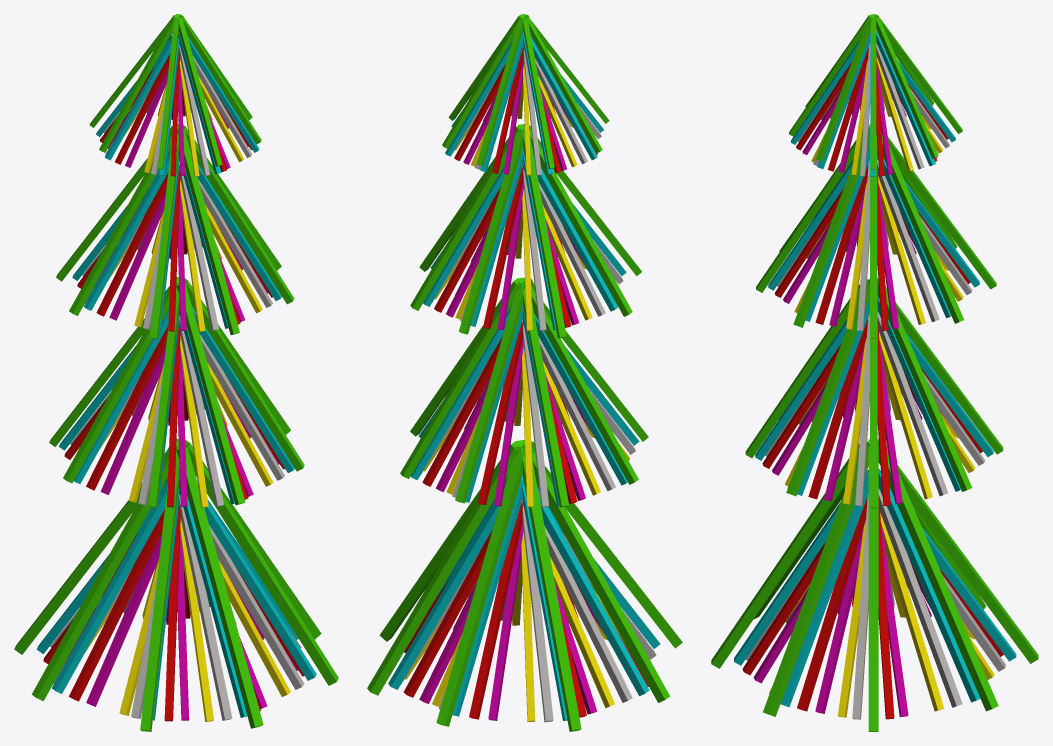
Rendered from jokastree.gltf.
3 renders of one model, left to right at view 1: azimuth 30°, elevation 25°; view 2: azimuth 150°, elevation 25°; view 3: azimuth 270°, elevation 25°, orthographic.
Parts seen in each view (by area): view 1: 4.001, 5.001, 4, 2.001, 6.001, 4.002, 5, 3.001, 2, Cube.001, Cube.008, 6 (+31 smaller); view 2: 4.001, 4, 2.001, 4.002, 5.001, 6.001, 3.001, Cube, 5, 2, Cube.008, Cube.025 (+32 smaller); view 3: 4.001, 2.001, 5.001, 4, 2, 5, 3.001, 6.001, 4.002, Cube.025, Cube.017, 2.002 (+30 smaller).
Boxes of the visible parts, left/top/right/bottom form: 4.001: left=36, top=479, right=316, bottom=720; 5.001: left=50, top=494, right=304, bottom=720; 4: left=59, top=304, right=294, bottom=506; 2.001: left=43, top=504, right=304, bottom=721; 6.001: left=84, top=519, right=290, bottom=721; 4.002: left=72, top=149, right=281, bottom=330; 5: left=70, top=315, right=284, bottom=506; 3.001: left=64, top=534, right=297, bottom=720; 2: left=64, top=324, right=284, bottom=507; Cube.001: left=176, top=447, right=263, bottom=728; Cube.008: left=31, top=447, right=176, bottom=700; 6: left=99, top=336, right=273, bottom=507; 4.001: left=388, top=475, right=660, bottom=720; 4: left=410, top=305, right=639, bottom=506; 2.001: left=403, top=501, right=648, bottom=719; 4.002: left=423, top=147, right=626, bottom=330; 5.001: left=401, top=499, right=656, bottom=722; 6.001: left=405, top=531, right=628, bottom=721; 3.001: left=419, top=522, right=604, bottom=720; Cube: left=436, top=446, right=524, bottom=726; 5: left=420, top=320, right=635, bottom=507; 2: left=422, top=321, right=627, bottom=505; Cube.008: left=531, top=447, right=669, bottom=702; Cube.025: left=367, top=445, right=519, bottom=695; 4.001: left=734, top=469, right=1016, bottom=707; 2.001: left=742, top=489, right=1003, bottom=719; 5.001: left=745, top=488, right=1005, bottom=719; 4: left=755, top=295, right=993, bottom=495; 2: left=762, top=318, right=982, bottom=505; 5: left=765, top=311, right=984, bottom=506; 3.001: left=753, top=525, right=931, bottom=716; 6.001: left=769, top=513, right=994, bottom=717; 4.002: left=768, top=146, right=979, bottom=321; Cube.025: left=878, top=445, right=998, bottom=711; Cube.017: left=763, top=445, right=869, bottom=716; 2.002: left=775, top=165, right=970, bottom=330.
Bounding box in the file's own units: 66.75 × 147 × 66.75.
